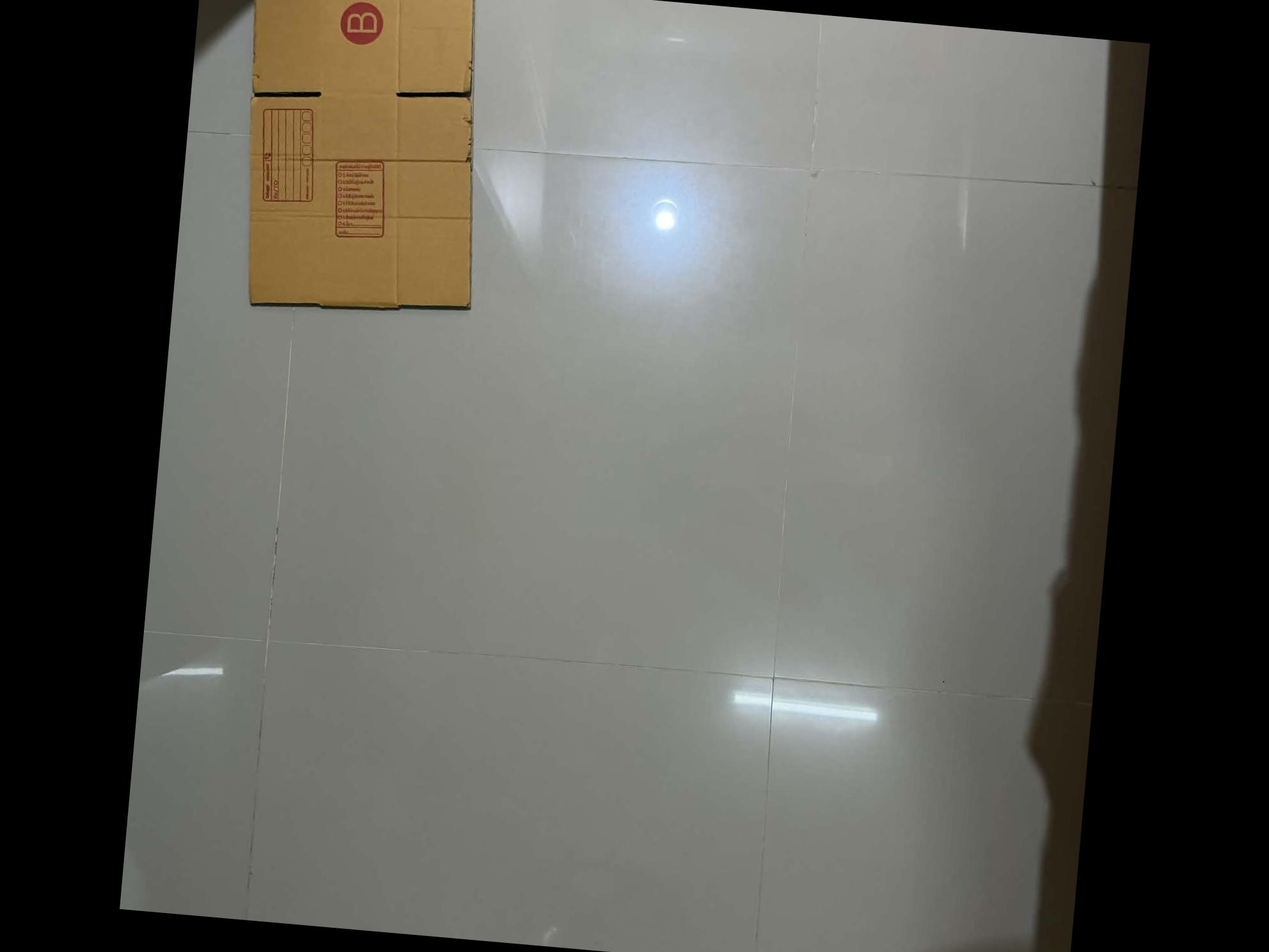box: (253, 97, 322, 210), (326, 153, 392, 246), (338, 0, 386, 47)
class0: (234, 0, 498, 325)
